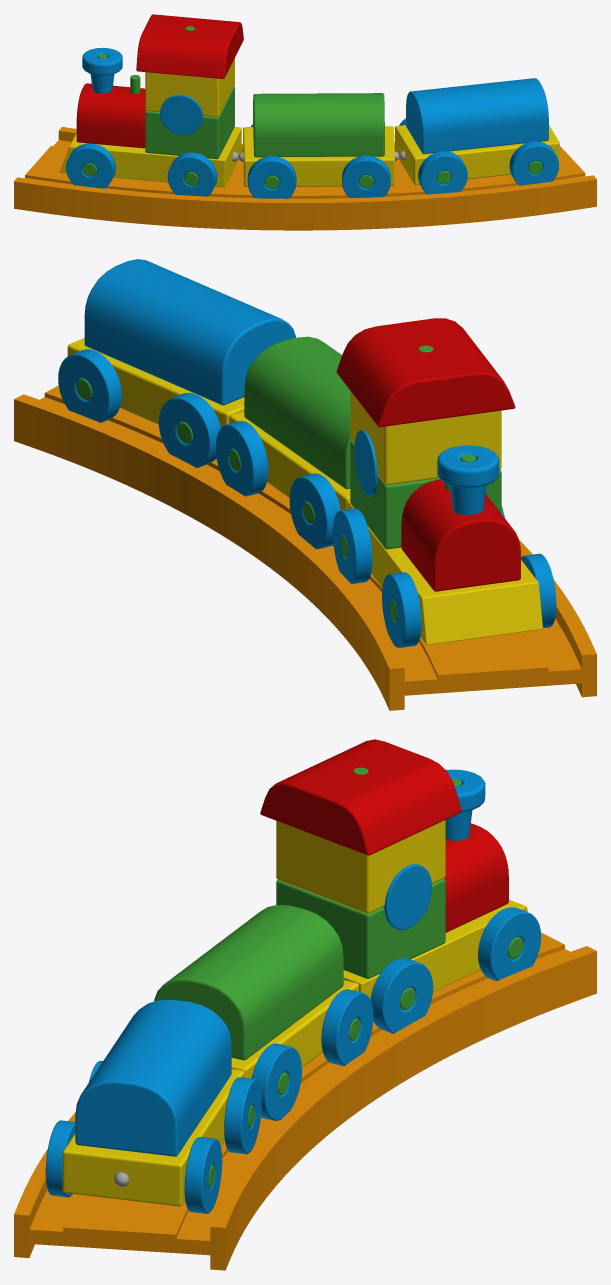
The model's file is day07_train_set.glb.
3 renders of one model, top to bottom at view 1: azimuth 30°, elevation 25°; view 2: azimuth 150°, elevation 25°; view 3: azimuth 270°, elevation 25°, orthographic. The views are drawn at different scales.
Parts seen in each view (by area): view 1: rail, train_1, train_3_blue_0, train_2_green_0, train_3_yellow_0, train_2_yellow_0, rueda_1_blue_0, rueda_2_blue_0, rueda_3_blue_0, rueda_5_blue_0, rueda_6_blue_0, rueda_4_blue_0; view 2: train_1, rail, train_3_blue_0, train_2_green_0, rueda_1_blue_0, rueda_6_blue_0, rueda_5_blue_0, train_3_yellow_0, rueda_4_blue_0, rueda_3_blue_0, rueda_2_blue_0, train_2_yellow_0; view 3: train_1, rail, train_3_blue_0, train_2_green_0, train_3_yellow_0, rueda_6_blue_0, rueda_2_blue_0, rueda_1_blue_0, rueda_3_blue_0, rueda_4_blue_0, rueda_5_blue_0, train_2_yellow_0.
Boxes of the visible parts, box(x1,y1,x2,y2) form: rail: box(14, 127, 596, 230); train_1: box(60, 14, 243, 187); train_3_blue_0: box(406, 78, 548, 153); train_2_green_0: box(253, 93, 384, 157); train_3_yellow_0: box(395, 125, 559, 184); train_2_yellow_0: box(243, 126, 394, 186); rueda_1_blue_0: box(66, 143, 115, 188); rueda_2_blue_0: box(167, 152, 217, 196); rueda_3_blue_0: box(247, 124, 296, 198); rueda_5_blue_0: box(399, 118, 467, 194); rueda_6_blue_0: box(509, 141, 558, 185); rueda_4_blue_0: box(342, 155, 390, 198); train_1: box(336, 318, 542, 644); rail: box(14, 385, 596, 710); train_3_blue_0: box(84, 259, 295, 405); train_2_green_0: box(244, 336, 351, 489); rueda_1_blue_0: box(382, 553, 556, 647); rueda_6_blue_0: box(58, 349, 121, 422); rueda_5_blue_0: box(158, 393, 220, 467); train_3_yellow_0: box(67, 338, 244, 427); rueda_4_blue_0: box(215, 421, 268, 496); rueda_3_blue_0: box(289, 473, 340, 549); rueda_2_blue_0: box(333, 506, 504, 583); train_2_yellow_0: box(229, 411, 350, 510); train_1: box(260, 739, 527, 999); rail: box(14, 932, 596, 1270); train_3_blue_0: box(75, 999, 231, 1156); train_2_green_0: box(154, 905, 343, 1060); train_3_yellow_0: box(62, 1069, 244, 1206); rueda_6_blue_0: box(45, 1120, 222, 1213); rueda_2_blue_0: box(370, 958, 433, 1033); rueda_1_blue_0: box(478, 907, 541, 981); rueda_3_blue_0: box(321, 989, 373, 1065); rueda_4_blue_0: box(251, 1043, 301, 1120); rueda_5_blue_0: box(89, 1060, 261, 1154); train_2_yellow_0: box(231, 980, 358, 1078).
Bounding box in the file's own units: 52.44 × 18.53 × 37.26.
